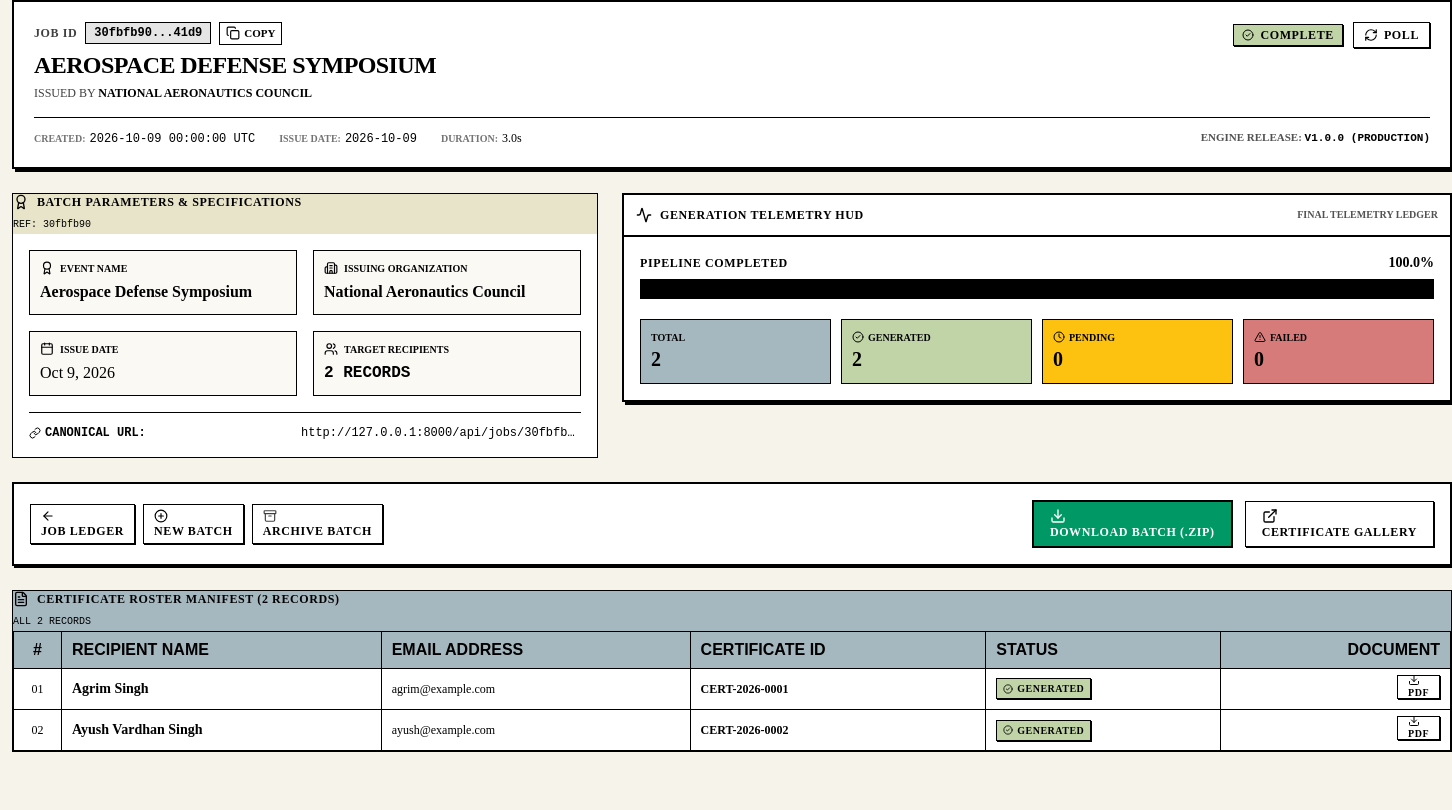
Test: JobDetailPage Integration Tests › allows copying full job UUID to clipboard
Expected: the heading "Aerospace Defense Symposium" is shown, [34,48,436,80]
What coordinates should you click on to do the following:
click the button with aria-label "Copy full Job ID to clipboard"
I would click on:
 (251, 33)
Its box is [219,22,282,44].
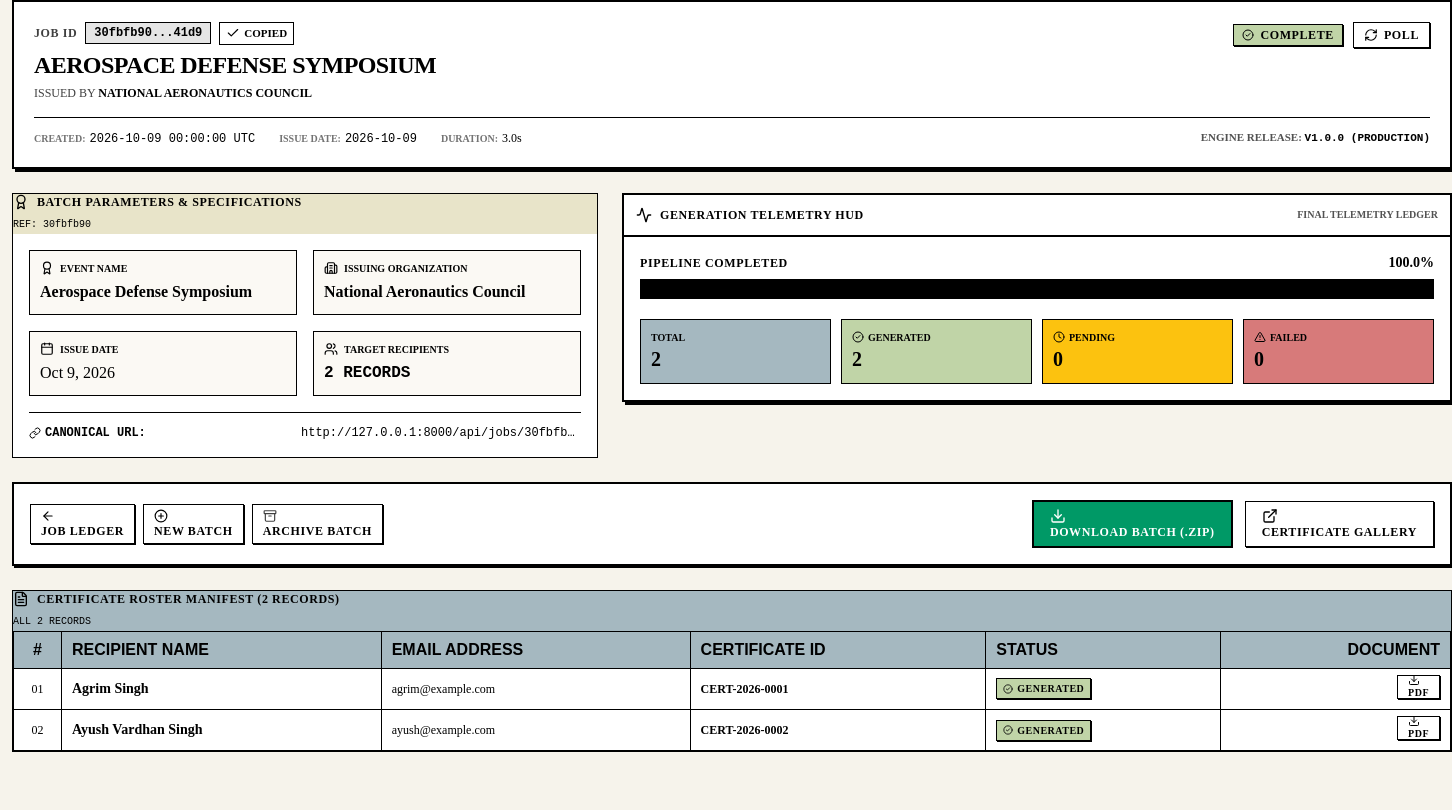
Now the text "COPIED" is shown, box [244,25,287,42]
